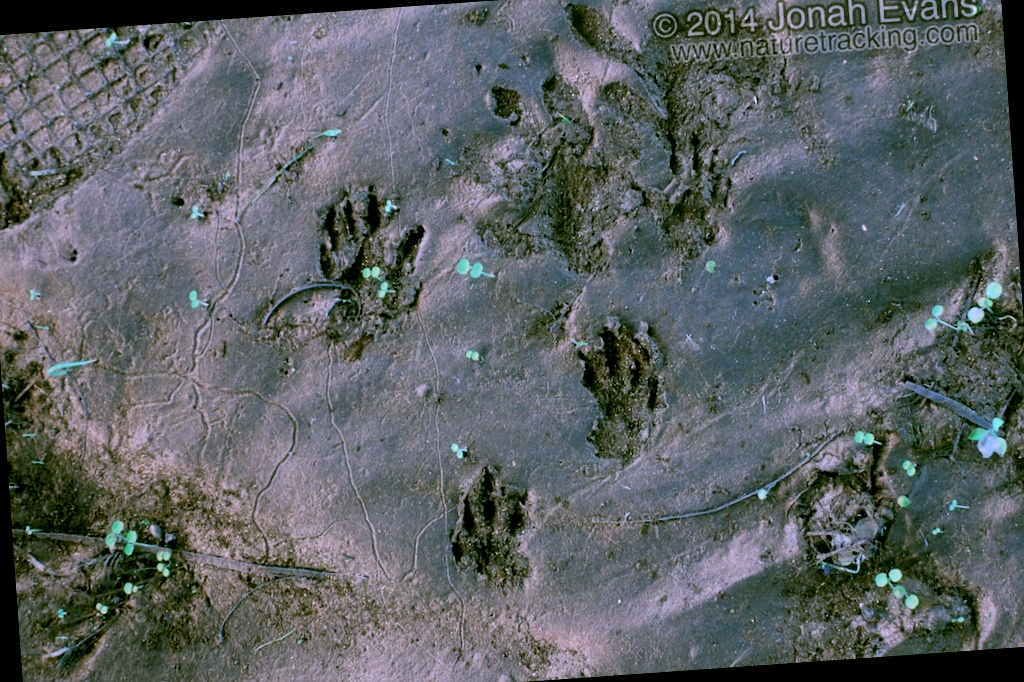ecureuil: (452, 3, 821, 305), (286, 151, 440, 374), (415, 453, 547, 614), (554, 312, 682, 474)
